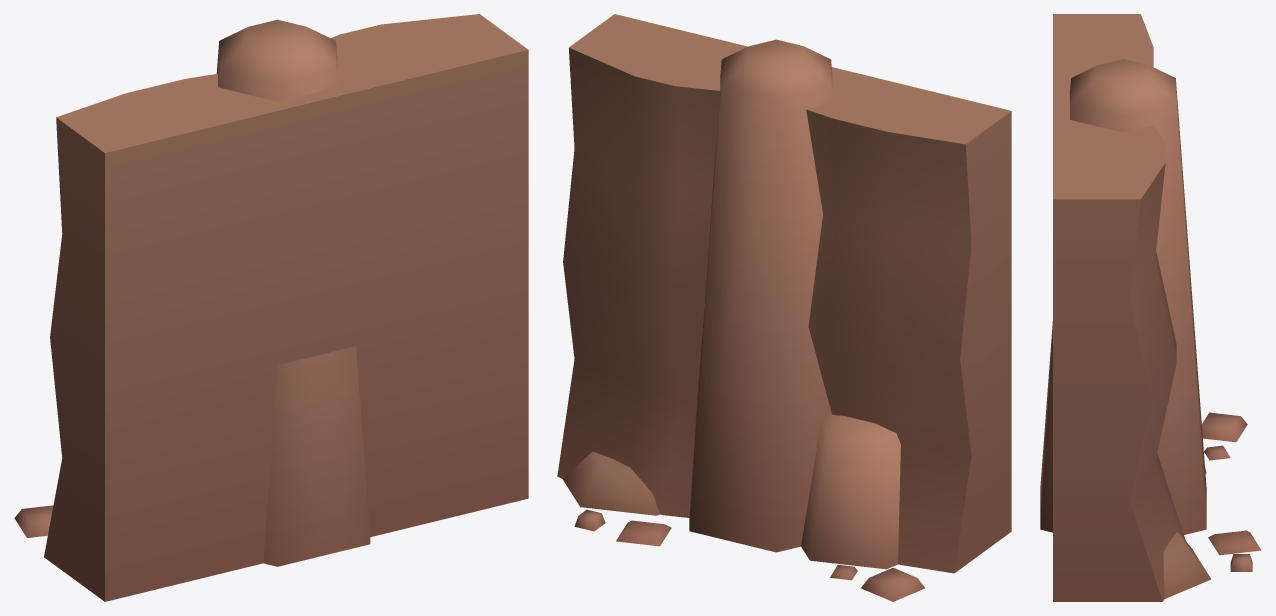
The model's file is kenney-modular-cave-template-wall-detail-a.glb.
3 renders of one model, left to right at view 1: azimuth 30°, elevation 25°; view 2: azimuth 150°, elevation 25°; view 3: azimuth 270°, elevation 25°, orthographic. The views are drawn at different scales.
Parts seen in each view (by area): view 1: template-wall-detail-a; view 2: template-wall-detail-a; view 3: template-wall-detail-a.
Part boxes in pixels (x1,y1,x2,y2): template-wall-detail-a: (14, 14, 528, 601); template-wall-detail-a: (557, 14, 1011, 601); template-wall-detail-a: (1040, 14, 1261, 601).
Size of the model in its own units: 4 by 4.4 by 2.02.
1 material, 1 textured.
